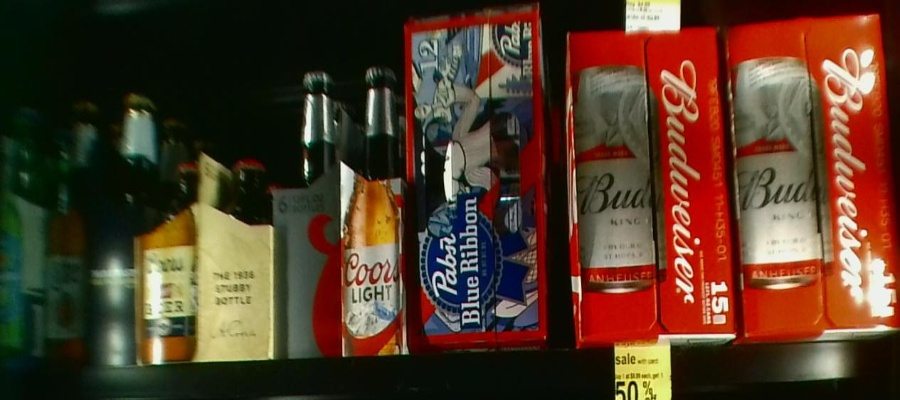bottle: (563, 23, 738, 345), (730, 13, 895, 337), (403, 15, 548, 350), (273, 65, 401, 356), (131, 153, 271, 360), (45, 95, 90, 361), (96, 95, 136, 367)
